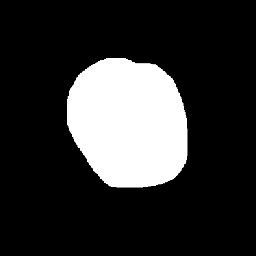mass: (65, 59, 174, 186)
